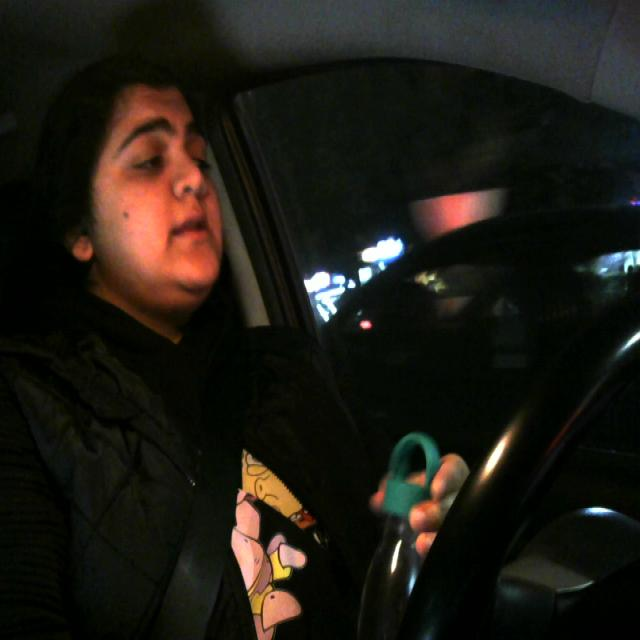drinking: (363, 433, 441, 640)
